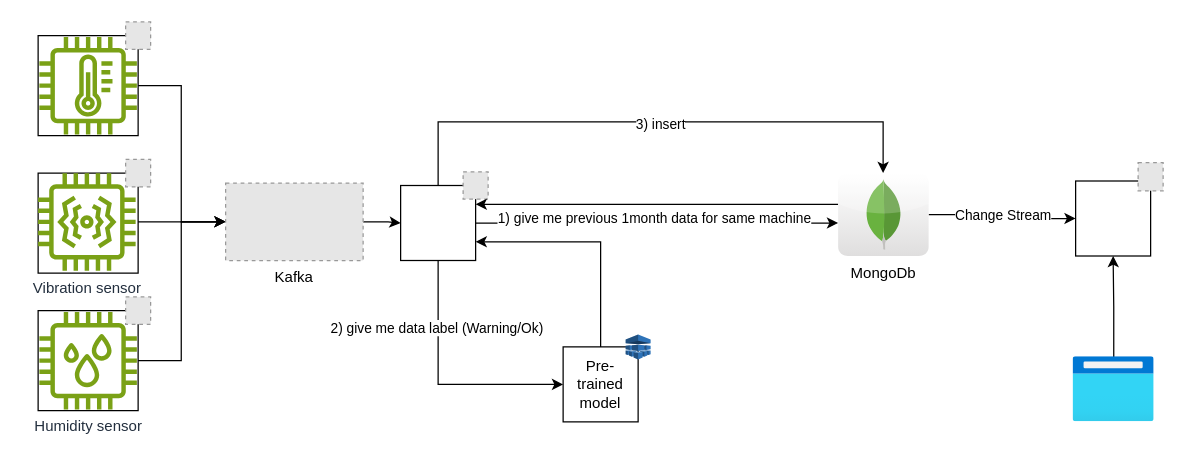
Image size: 1185x458. Some labels were removed from this diagram. Grey dashed boxes stand in for pictures. Each missing label, with the centre of its shape:
"Script" goes at (x=437, y=222).
"Server" goes at (x=1112, y=218).
"Temperature sensor" goes at (x=87, y=85).
